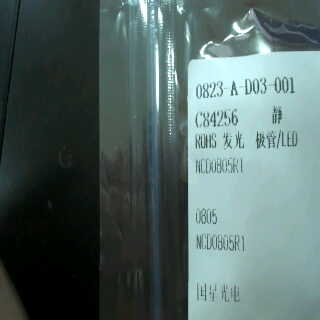LED: (219, 129, 302, 149)
